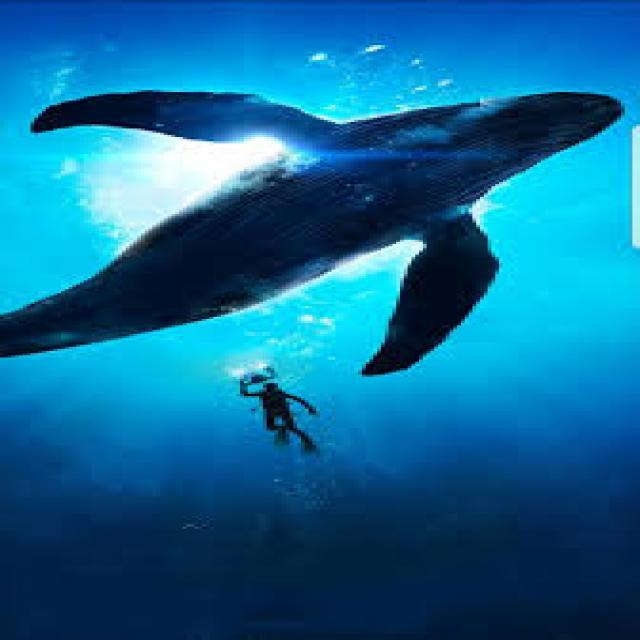blue_whale: (0, 64, 629, 349)
